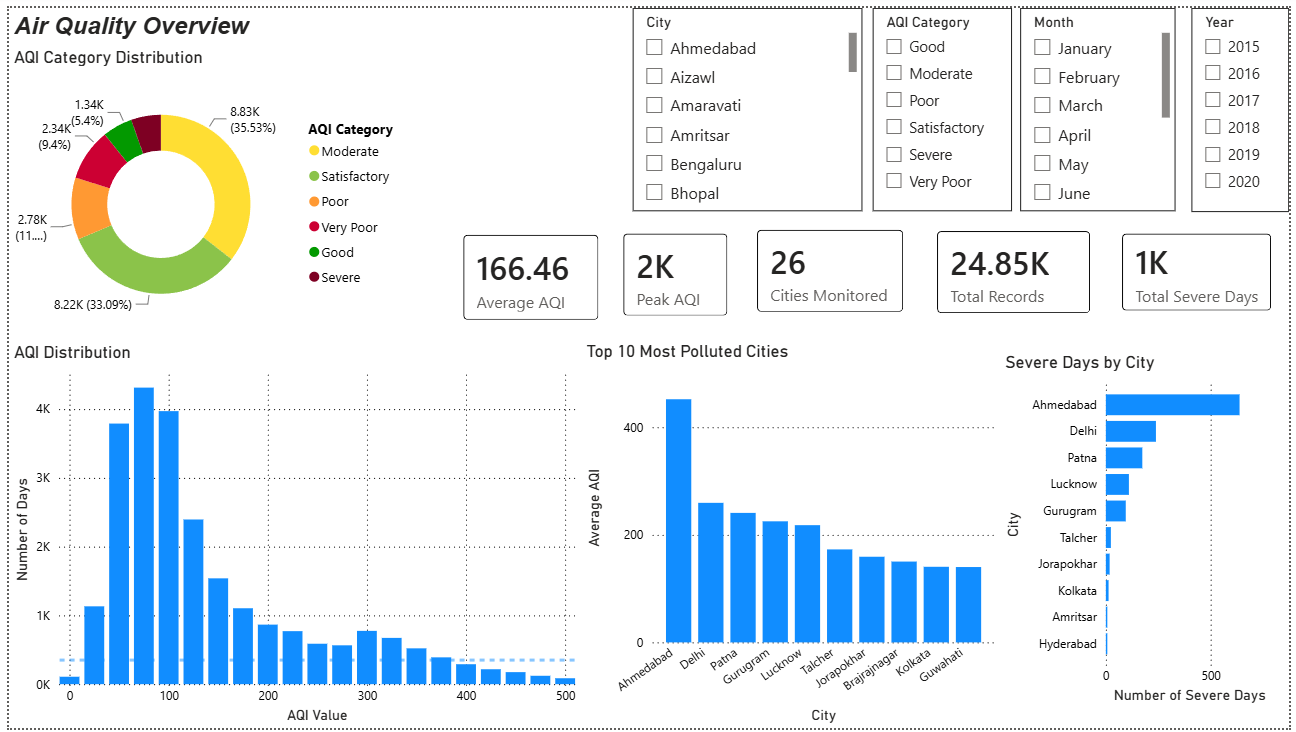

This screenshot's page, from the dashboard's own definition file:
{"tool":"powerbi","page":{"name":"Page 1","canvas":[1280,720],"ordinal":0},"visuals":[{"type":"slicer","fields":{"Values":["city_day.City"]},"box":[623.2,0,229.9,203],"z":0},{"type":"slicer","fields":{"Values":["city_day.AQI_Bucket"]},"box":[863.8,0,139.4,203],"z":1000},{"type":"slicer","fields":{"Values":["city_day.Date.Variation.Date Hierarchy.Year"]},"box":[1182.2,0,97.8,204.2],"z":2000},{"type":"slicer","fields":{"Values":["city_day.Date.Variation.Date Hierarchy.Month"]},"box":[1011.8,0,155.3,203],"z":3000},{"type":"columnChart","title":"Top 10 Most Polluted Cities","fields":{"Category":["city_day.City"],"Y":["Avg(city_day.AQI)"]},"box":[572.3,332.4,418.2,387.9],"z":4000},{"type":"clusteredColumnChart","title":"AQI Distribution","fields":{"Y":["CountNonNull(city_day.AQI)"],"Category":["city_day.AQI (bins)"]},"box":[0,333.8,572.3,386.4],"z":5000},{"type":"donutChart","title":"AQI Category Distribution","fields":{"Category":["city_day.AQI_Bucket"],"Y":["CountNonNull(city_day.AQI_Bucket)"]},"box":[0,38.8,406.2,296.2],"z":6000},{"type":"barChart","title":"Severe Days by City","fields":{"Category":["city_day.City"],"Y":["city_day.Severe Days"]},"box":[991,343.6,288.5,356.4],"z":7000},{"type":"cardVisual","fields":{"Data":["Avg(city_day.AQI)"]},"box":[437.8,210.6,170,119.8],"z":8000},{"type":"cardVisual","fields":{"Data":["Max(city_day.AQI)"]},"box":[597,208.9,138.2,116.2],"z":9000},{"type":"cardVisual","fields":{"Data":["Count(city_day.City)"]},"box":[730.8,205.2,181,116.2],"z":10000},{"type":"cardVisual","fields":{"Data":["CountNonNull(city_day.City)"]},"box":[911.5,205.9,187.1,116.2],"z":11000},{"type":"cardVisual","fields":{"Data":["city_day.Severe Days"]},"box":[1096.6,209.1,183.4,111.3],"z":12000},{"type":"textbox","box":[0,0,245.8,39.1],"z":14000}]}

Visuals, with their boxes in screenshot pixels (x1, y1, x2, y2), scaled from the page's 1280x720 canvas onto the 1296x732 screenshot:
slicer - city_day.City: box=[631, 0, 864, 206]
slicer - city_day.AQI_Bucket: box=[875, 0, 1016, 206]
slicer - city_day.Date.Variation.Date Hierarchy.Year: box=[1197, 0, 1295, 208]
slicer - city_day.Date.Variation.Date Hierarchy.Month: box=[1024, 0, 1182, 206]
"Top 10 Most Polluted Cities" columnChart: box=[579, 338, 1003, 731]
"AQI Distribution" clusteredColumnChart: box=[0, 339, 579, 731]
"AQI Category Distribution" donutChart: box=[0, 39, 411, 341]
"Severe Days by City" barChart: box=[1003, 349, 1295, 712]
cardVisual - Avg(city_day.AQI): box=[443, 214, 615, 336]
cardVisual - Max(city_day.AQI): box=[604, 212, 744, 331]
cardVisual - Count(city_day.City): box=[740, 209, 923, 327]
cardVisual - CountNonNull(city_day.City): box=[923, 209, 1112, 327]
cardVisual - city_day.Severe Days: box=[1110, 213, 1295, 326]
textbox: box=[0, 0, 249, 40]
